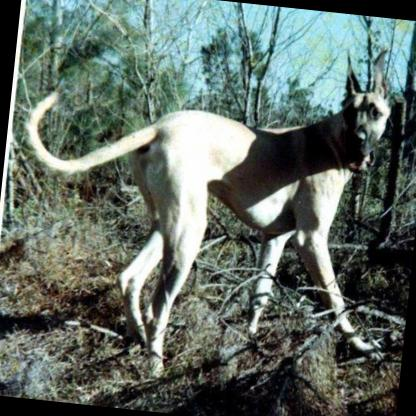Great_Dane: (0, 10, 412, 400)
